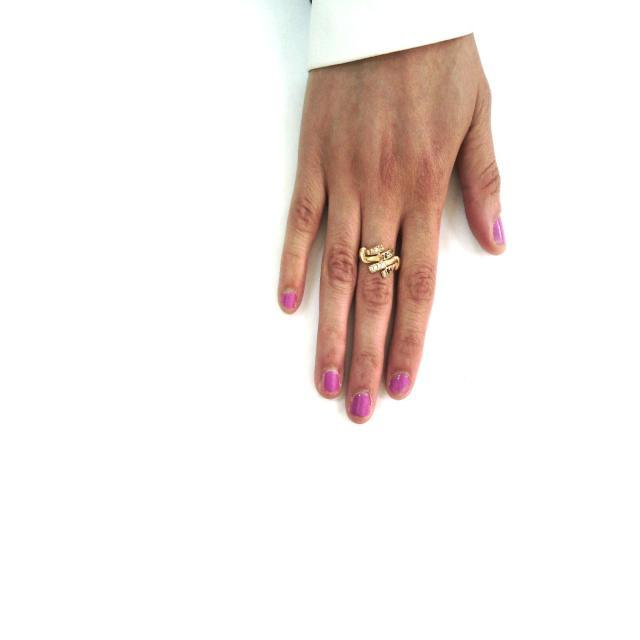Fingernail: (350, 391, 370, 419), (391, 371, 411, 397), (323, 370, 340, 393), (494, 218, 505, 244), (281, 291, 296, 310)
